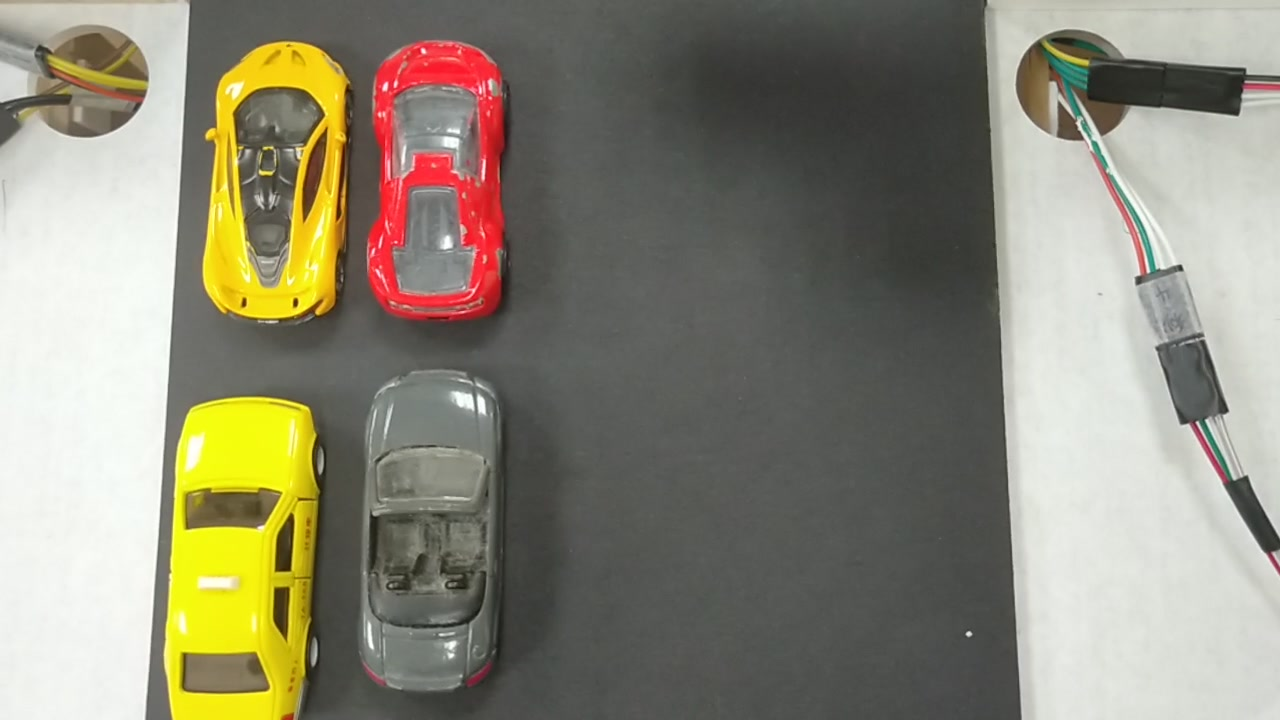car: (168, 395, 320, 720), (360, 369, 498, 687), (204, 45, 352, 316), (370, 38, 499, 324)
